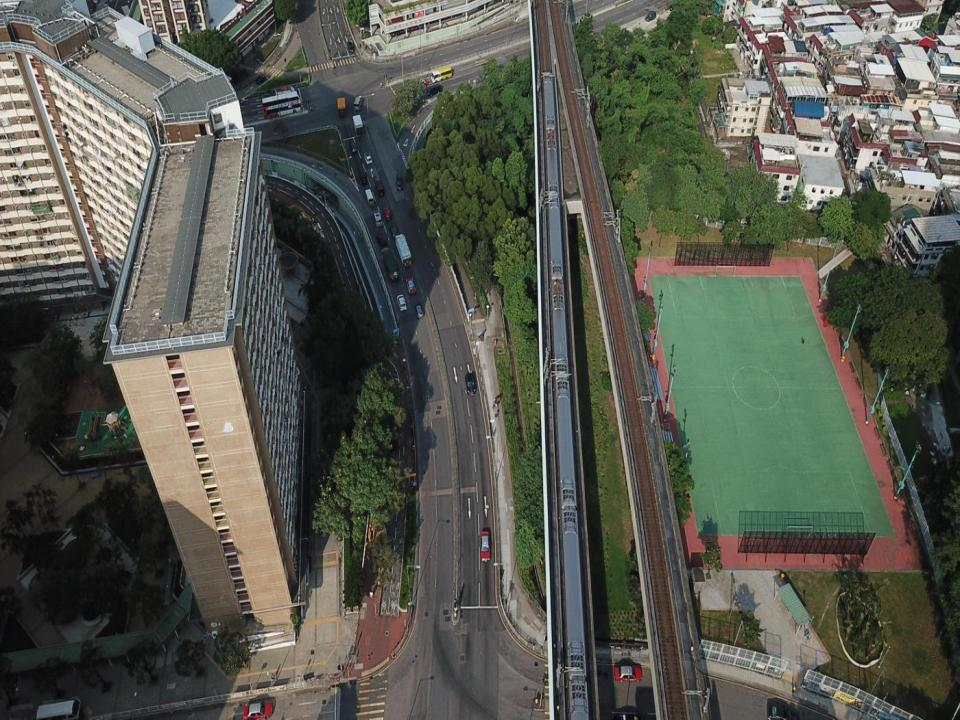bus: (262, 90, 302, 121), (430, 65, 452, 83)
car: (613, 664, 643, 682), (242, 702, 273, 719), (766, 704, 799, 719), (480, 529, 491, 562), (464, 372, 477, 396), (375, 231, 390, 248), (396, 292, 408, 312), (372, 208, 384, 228), (405, 276, 417, 294), (357, 166, 368, 185), (414, 301, 425, 319), (414, 78, 430, 90), (395, 173, 404, 191), (389, 223, 399, 239), (348, 140, 359, 154), (254, 75, 268, 86), (383, 206, 392, 221), (363, 151, 373, 164), (346, 40, 356, 53), (260, 92, 272, 102)
truck: (394, 232, 413, 270), (380, 246, 399, 282), (274, 85, 297, 103), (352, 113, 364, 137)
van: (36, 698, 82, 719), (372, 179, 386, 197), (425, 83, 442, 97), (364, 188, 376, 207), (337, 96, 346, 119), (353, 95, 363, 111)
